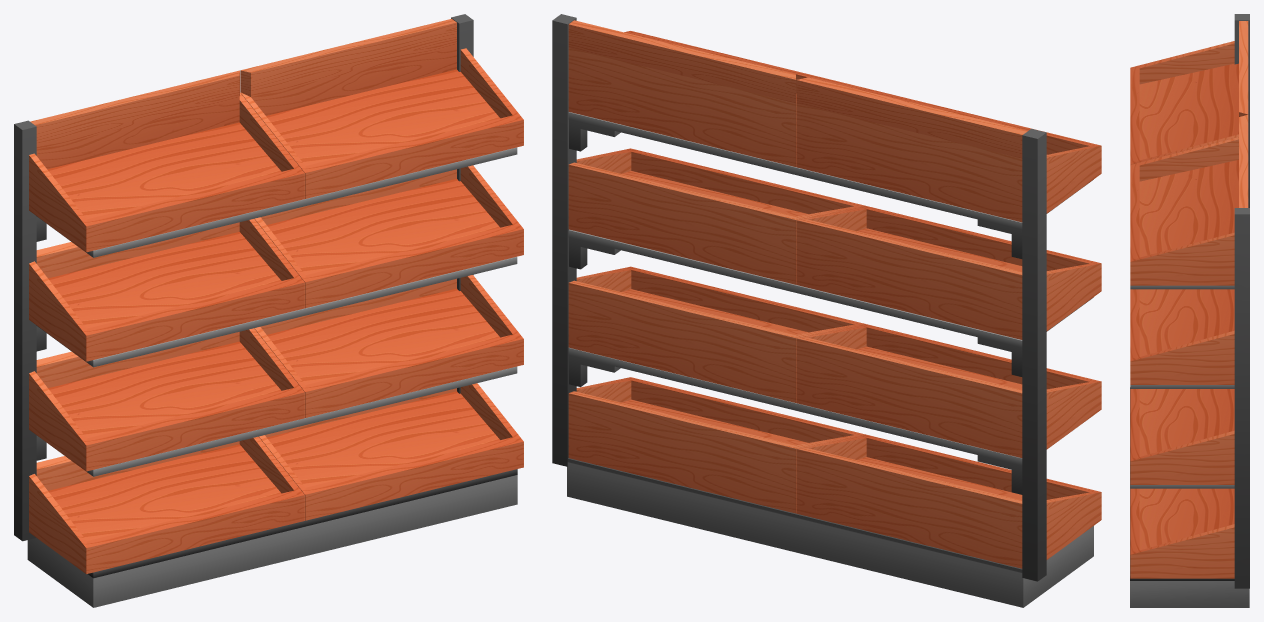
File: fruit shelf.fbx
3 renders of one model, left to right at view 1: azimuth 30°, elevation 25°; view 2: azimuth 150°, elevation 25°; view 3: azimuth 270°, elevation 25°, orthographic. The views are drawn at different scales.
Visible parts, largest first — view 1: Cube.063, Cube.061; view 2: Cube.063, Cube.061; view 3: Cube.063, Cube.061.
Part boxes in pixels (x1,y1,x2,y2): Cube.063: (29, 18, 523, 573); Cube.061: (14, 14, 517, 607); Cube.063: (568, 20, 1101, 568); Cube.061: (552, 14, 1093, 607); Cube.063: (1130, 21, 1248, 578); Cube.061: (1130, 14, 1249, 607).
Size of the model in its own units: 72.23 by 67.18 by 18.25.
2 materials, 2 textured.
